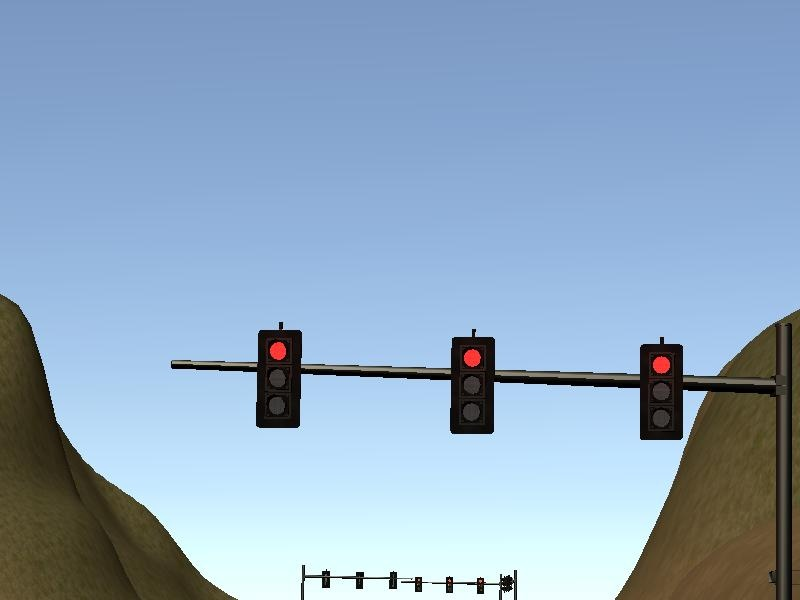red: (449, 337, 496, 434), (257, 332, 303, 429), (637, 345, 683, 440), (477, 579, 486, 595), (446, 576, 454, 594), (415, 577, 422, 593)
